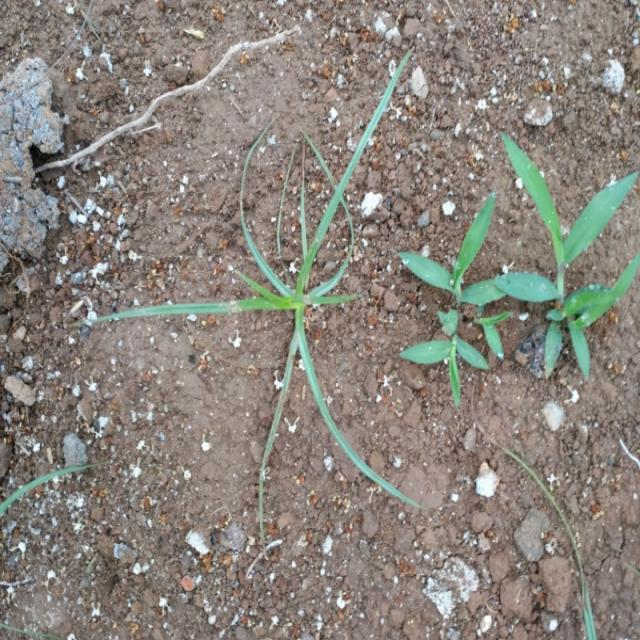sedge: (118, 147, 440, 512)
